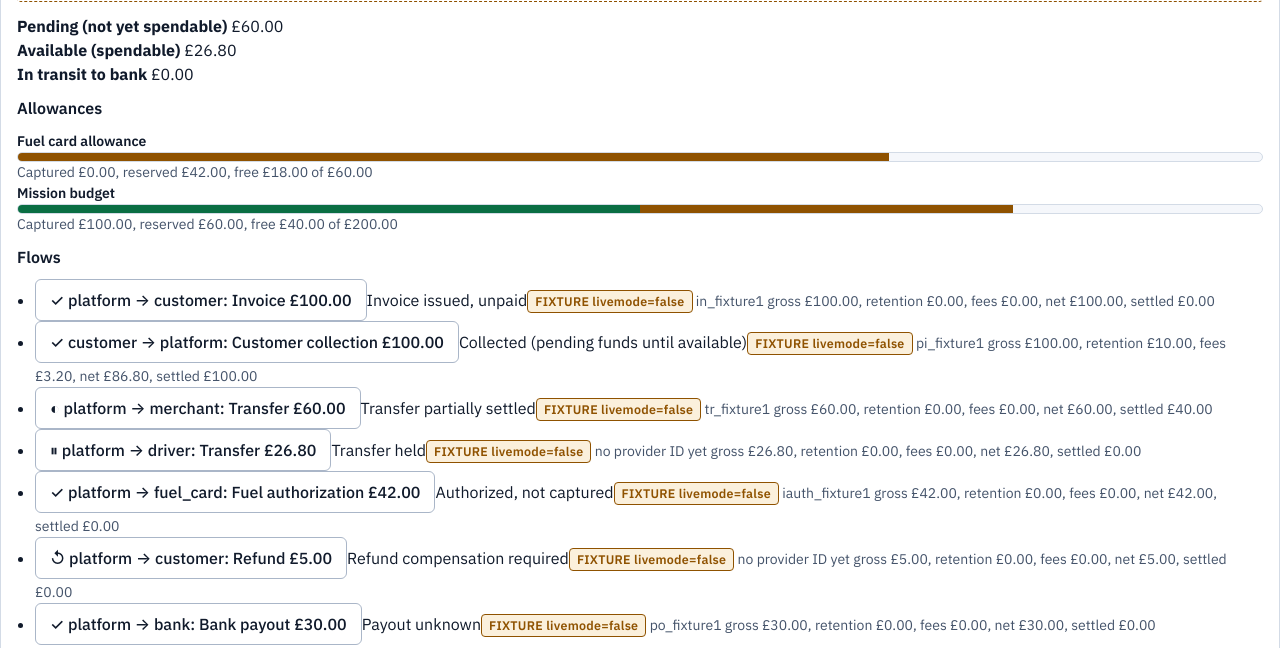
Test case: MoneyView › inspector shows policy, clauses, receipt and lineage
Click the button "◐ platform → merchant: Transfer £60.00". click: (198, 408)
box: [35,387,360,429]
(page scrolled)
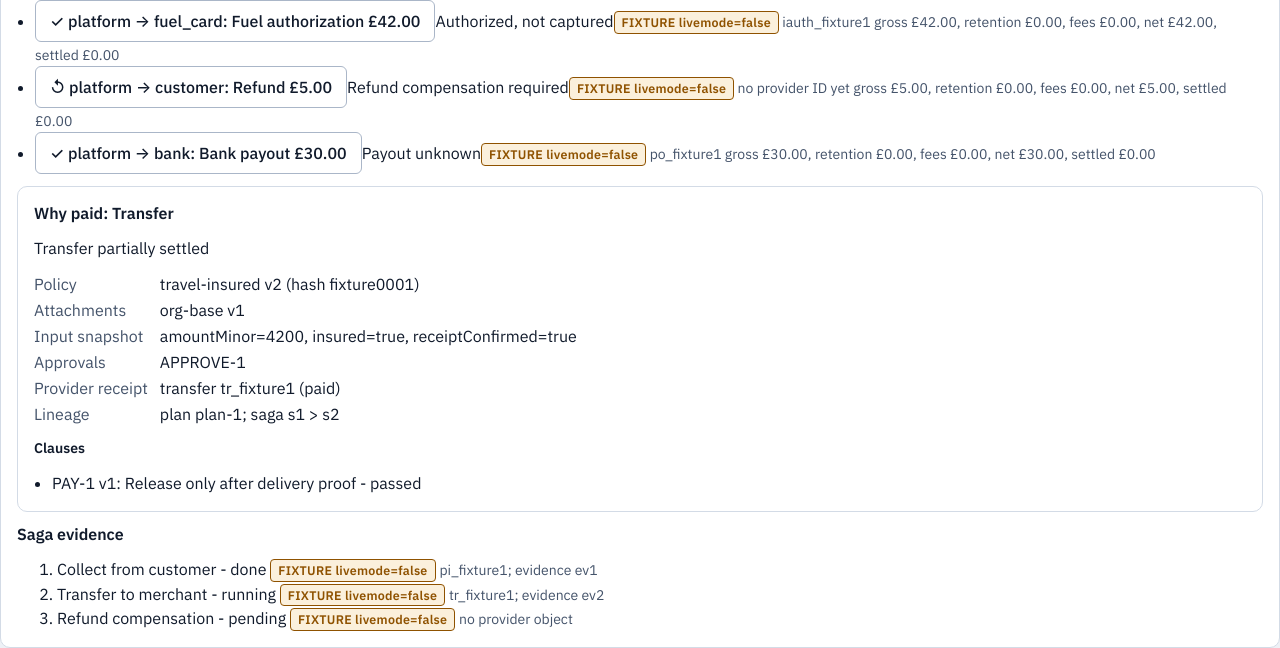
Now the text "travel-insured v2 (hash fixture0001)" is shown, box [160,274,420,294]
Now the text "transfer tr_fixture1 (paid)" is shown, box [160,378,341,398]
Now the text "APPROVE-1" is shown, box [160,352,246,372]
